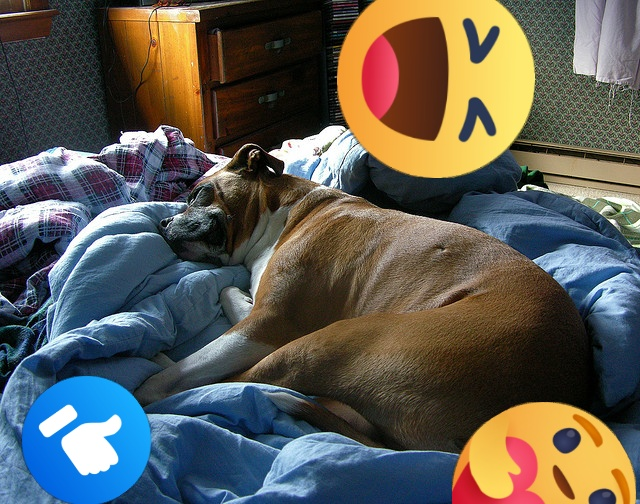care: (452, 402, 636, 504)
haha: (337, 0, 535, 178)
like: (22, 376, 151, 504)
